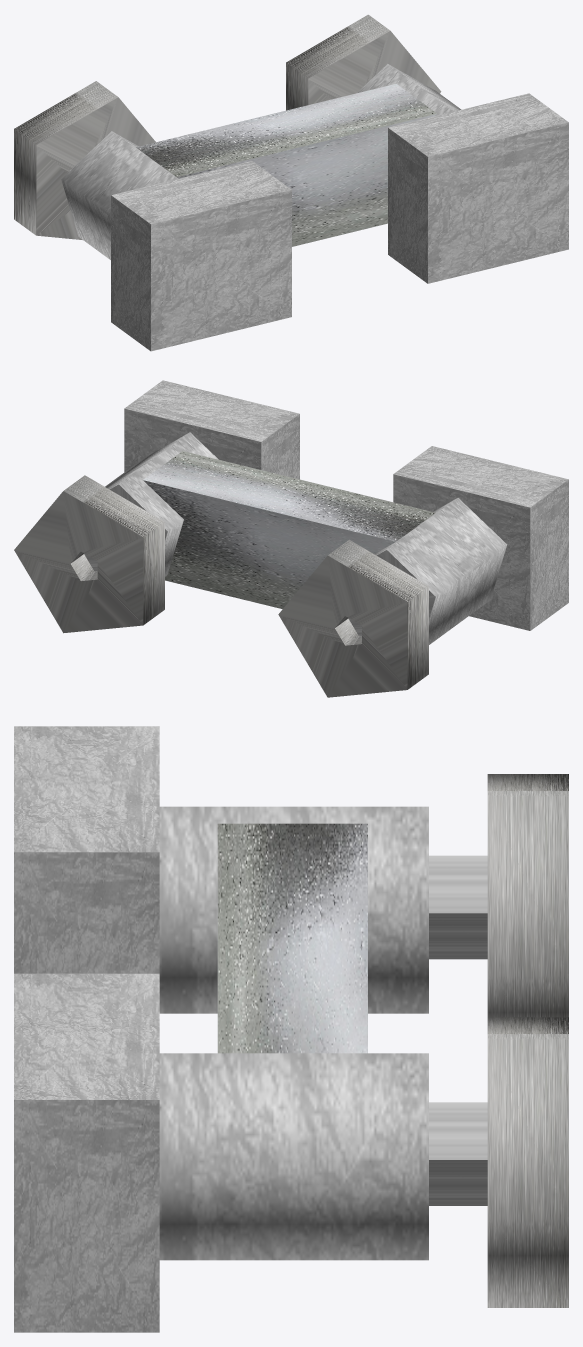
Rendered from shower control.FBX.
3 views of the same model, one above another, from view 1: azimuth 30°, elevation 25°; view 2: azimuth 150°, elevation 25°; view 3: azimuth 270°, elevation 25° (orthographic). The views are drawn at different scales.
Parts seen in each view (by area): view 1: Box005, Box003, Box004, Cylinder008, Cylinder007, Cylinder006, Cylinder005; view 2: Box004, Cylinder007, Cylinder008, Box005, Box003, Cylinder006, Cylinder005; view 3: Cylinder005, Box003, Box005, Box004, Cylinder006, Cylinder007, Cylinder008.
Boxes of the visible parts, left/top/right/bottom form: Box005: left=111, top=161, right=291, bottom=351; Box003: left=388, top=93, right=568, bottom=283; Box004: left=136, top=83, right=436, bottom=246; Cylinder008: left=14, top=81, right=155, bottom=239; Cylinder007: left=286, top=14, right=441, bottom=110; Cylinder006: left=61, top=131, right=178, bottom=259; Cylinder005: left=357, top=64, right=461, bottom=115; Box004: left=143, top=451, right=435, bottom=608; Cylinder007: left=14, top=475, right=164, bottom=633; Cylinder008: left=278, top=539, right=428, bottom=697; Box005: left=393, top=446, right=568, bottom=630; Box003: left=124, top=380, right=299, bottom=479; Cylinder006: left=348, top=498, right=507, bottom=644; Cylinder005: left=84, top=432, right=218, bottom=576; Cylinder005: left=159, top=1053, right=487, bottom=1260; Box003: left=14, top=973, right=159, bottom=1332; Box005: left=14, top=726, right=159, bottom=973; Box004: left=217, top=823, right=367, bottom=1053; Cylinder006: left=159, top=806, right=487, bottom=1013; Cylinder007: left=487, top=1017, right=568, bottom=1307; Cylinder008: left=487, top=774, right=568, bottom=1017.
Bounding box in the file's own units: 32.54 × 10.85 × 20.35.
Materials: 3 (3 with a texture image).
